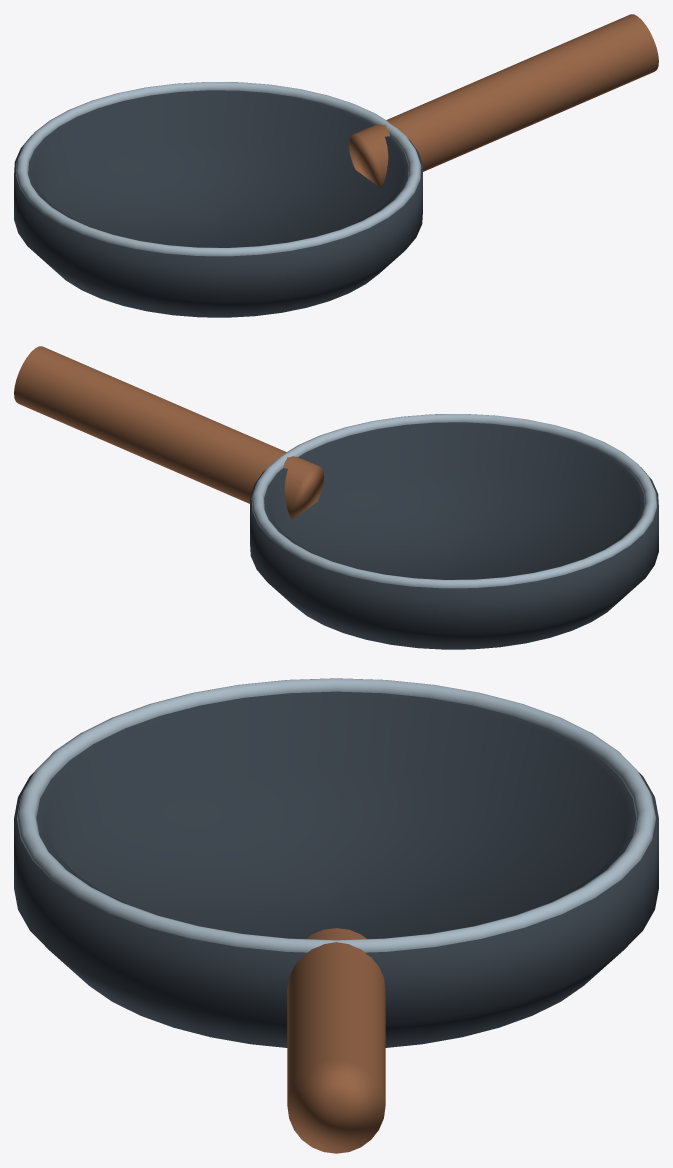
File: PAN.glb
3 renders of one model, top to bottom at view 1: azimuth 30°, elevation 25°; view 2: azimuth 150°, elevation 25°; view 3: azimuth 270°, elevation 25°, orthographic. The views are drawn at different scales.
Visible parts, largest first — view 1: PAN; view 2: PAN; view 3: PAN.
Boxes of the visible parts, left/top/right/bottom form: PAN: left=14, top=14, right=658, bottom=317; PAN: left=14, top=346, right=658, bottom=649; PAN: left=14, top=678, right=658, bottom=1153.
Size of the model in its own units: 0.7862 by 0.1544 by 0.46.
